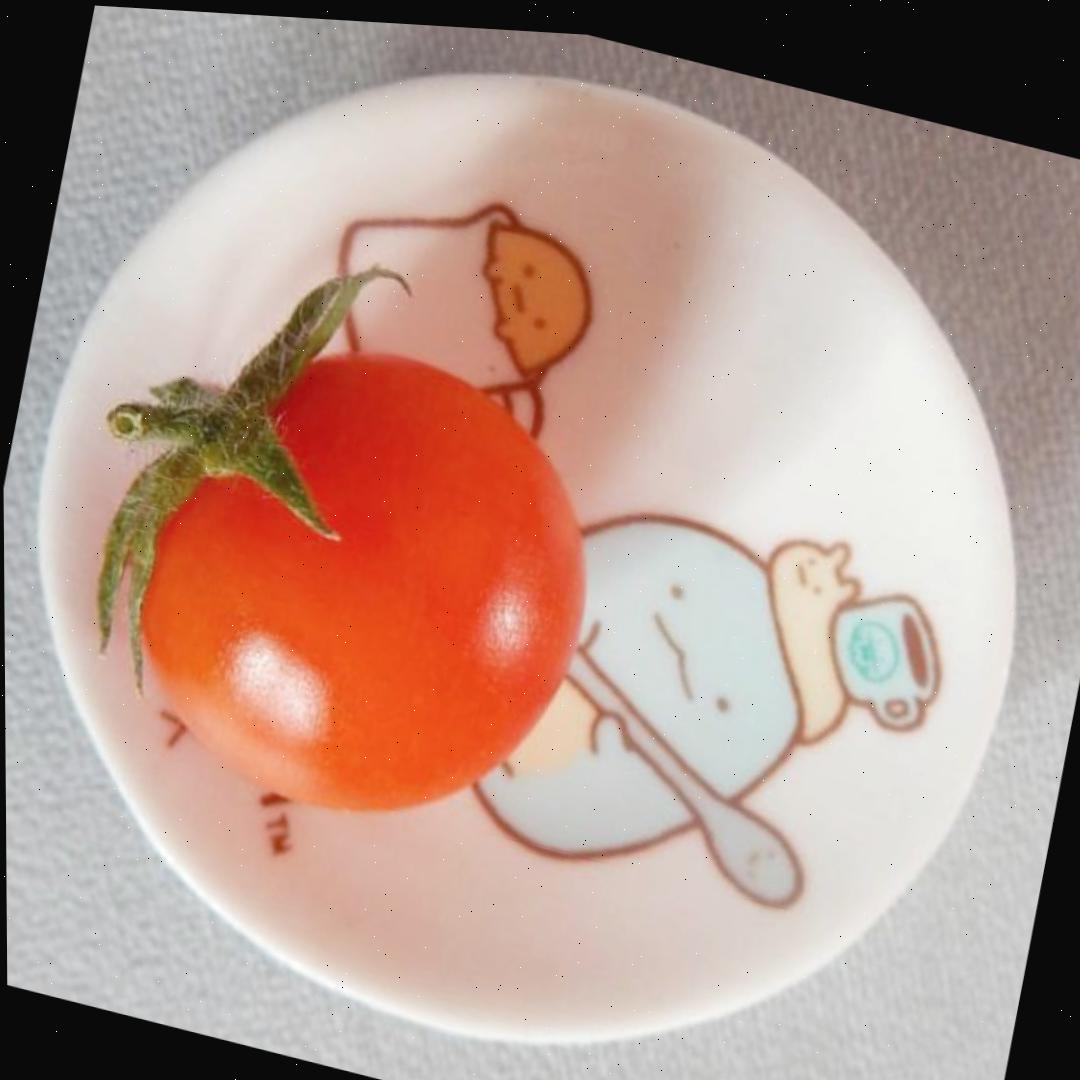matang: (44, 202, 642, 869)
